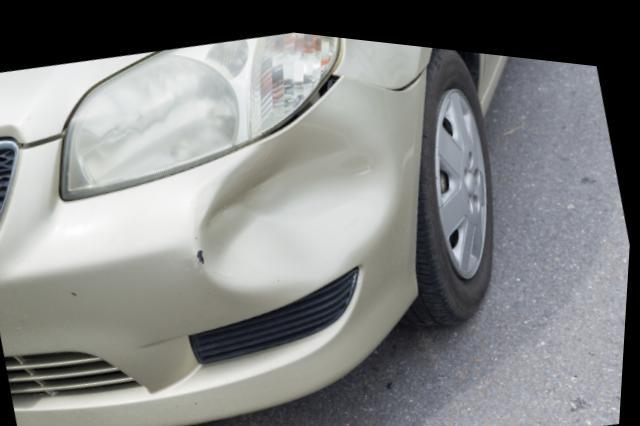dent: (199, 117, 395, 287)
dislocated part: (267, 66, 347, 131)
